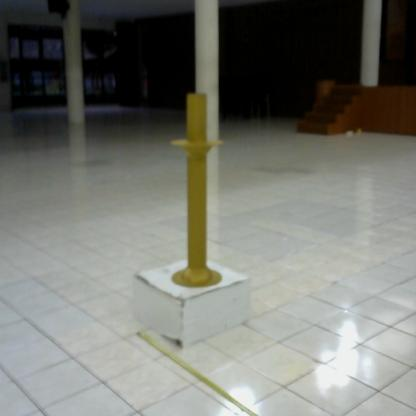pole: (168, 90, 230, 297)
